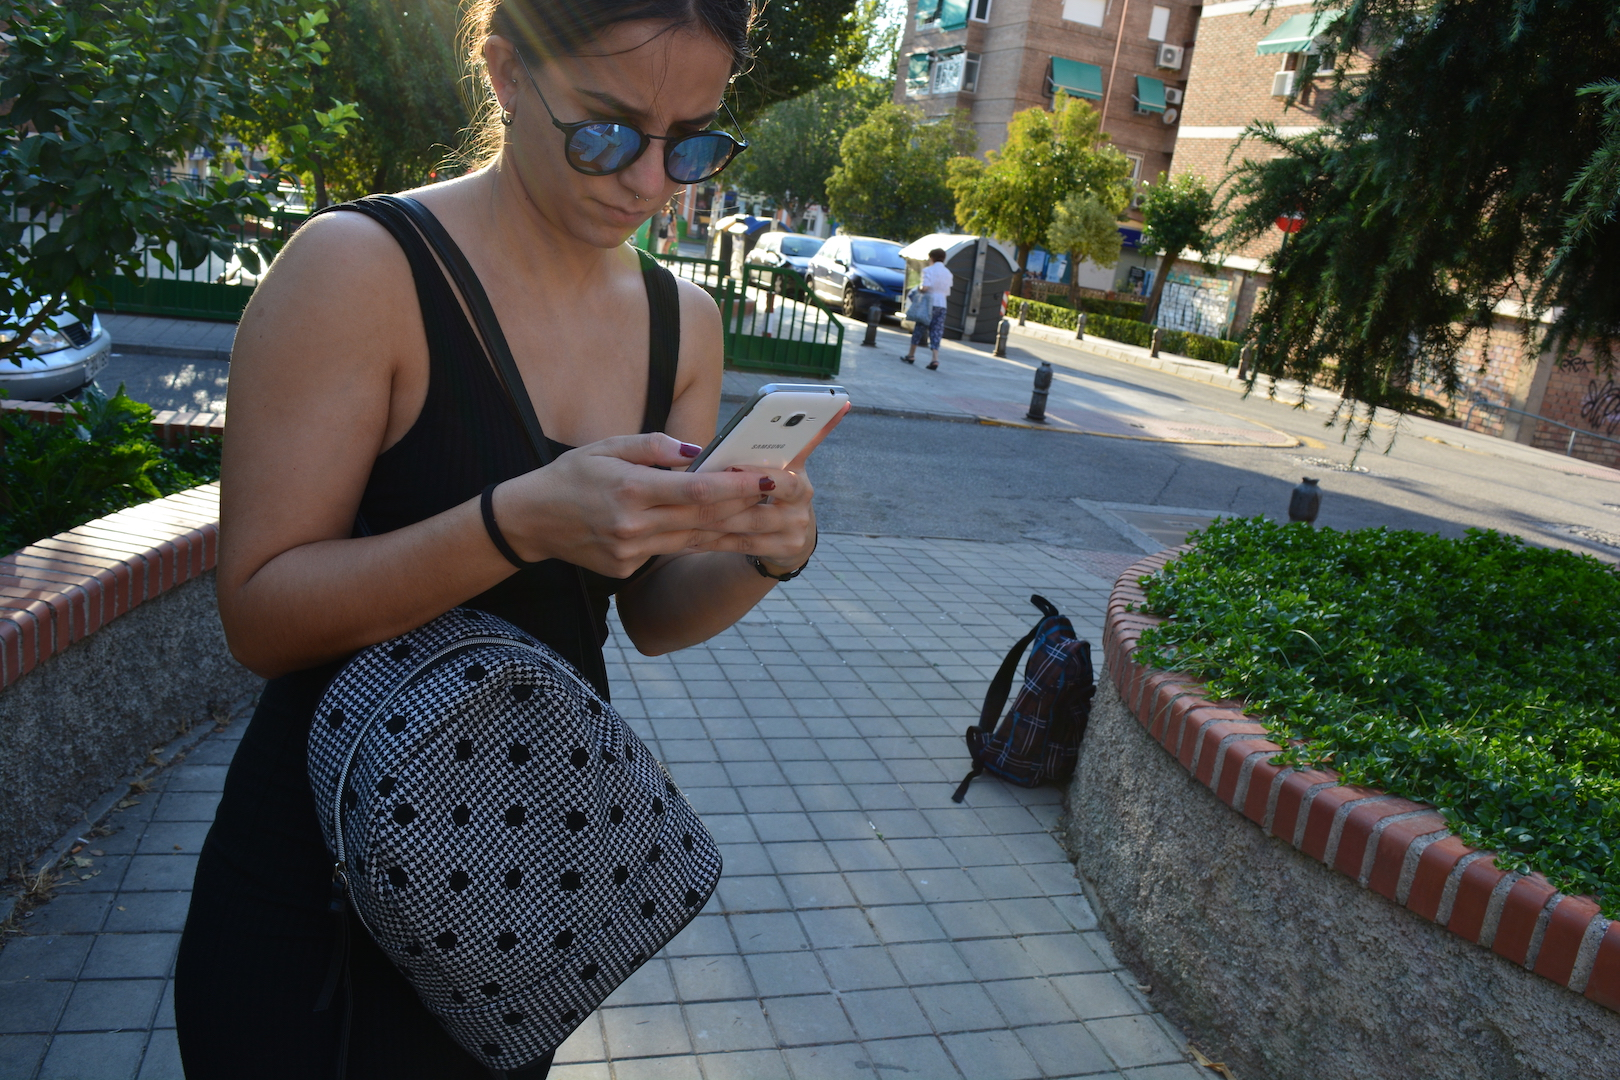smartphone: (683, 385, 853, 475)
